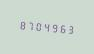eight: (17, 17, 24, 32)
four: (41, 19, 48, 34)
nine: (49, 20, 56, 34)
seven: (25, 18, 32, 32)
six: (57, 20, 64, 35)
three: (65, 21, 72, 36)
zero: (33, 18, 40, 33)
